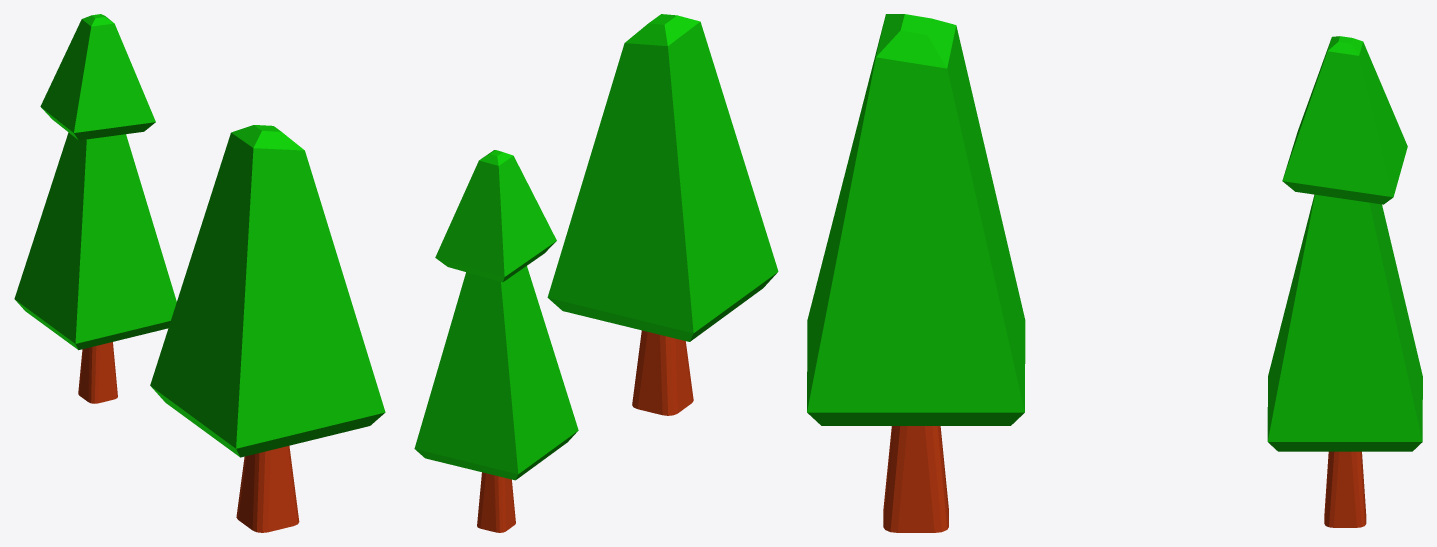
The model's file is trees.obj.
The picture shows the model from 3 angles, left to right: view 1: azimuth 30°, elevation 25°; view 2: azimuth 150°, elevation 25°; view 3: azimuth 270°, elevation 25°; orthographic projection. The views are drawn at different scales.
Visible parts, largest first — view 1: Cube, Cube.005; view 2: Cube, Cube.005; view 3: Cube, Cube.005.
Part boxes in pixels (x1,y1,x2,y2): Cube: [150, 125, 385, 532]; Cube.005: [14, 14, 176, 403]; Cube: [547, 14, 778, 415]; Cube.005: [414, 150, 578, 532]; Cube: [807, 14, 1025, 532]; Cube.005: [1267, 36, 1422, 527].
Bounding box in the file's own units: 0.2279 × 0.5745 × 0.6432.
